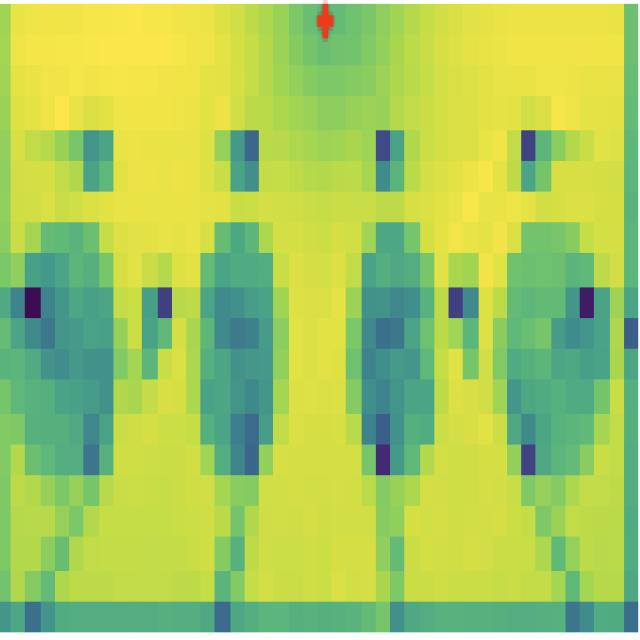Concrete: (506, 182, 615, 519)
Glass: (352, 202, 452, 534)
Metal: (13, 182, 132, 515)
Wood: (179, 167, 303, 513)
